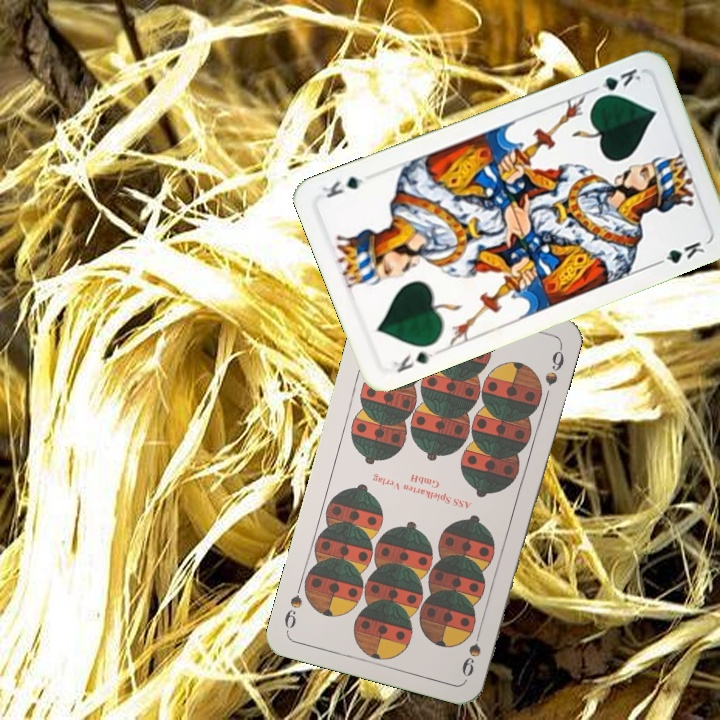GK: (587, 64, 644, 102), (388, 347, 436, 375)
S9: (457, 622, 485, 680)
